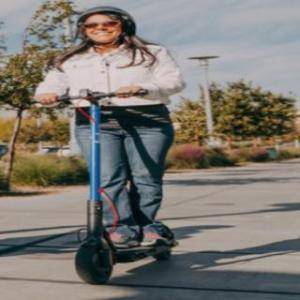helmet: (67, 7, 153, 54)
human: (33, 11, 174, 252)
kickboard: (76, 238, 178, 285)
